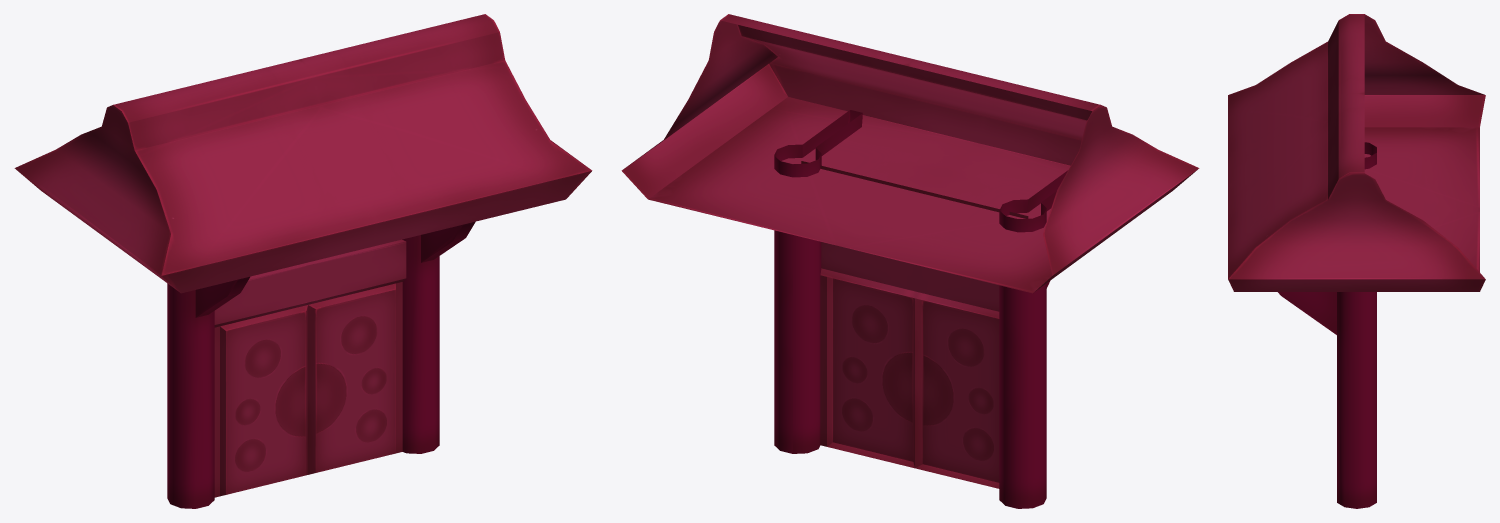
Rendered from SM_Enviro_Door.fbx.
3 renders of one model, left to right at view 1: azimuth 30°, elevation 25°; view 2: azimuth 150°, elevation 25°; view 3: azimuth 270°, elevation 25°, orthographic. The views are drawn at different scales.
Visible parts, largest first — view 1: SM_Enviro_Door; view 2: SM_Enviro_Door; view 3: SM_Enviro_Door.
Boxes of the visible parts, x1,y1,x2,y2 form: SM_Enviro_Door: (14, 14, 592, 508); SM_Enviro_Door: (621, 14, 1199, 508); SM_Enviro_Door: (1228, 14, 1485, 508).
Bounding box in the file's own units: 782 × 709 × 462.
